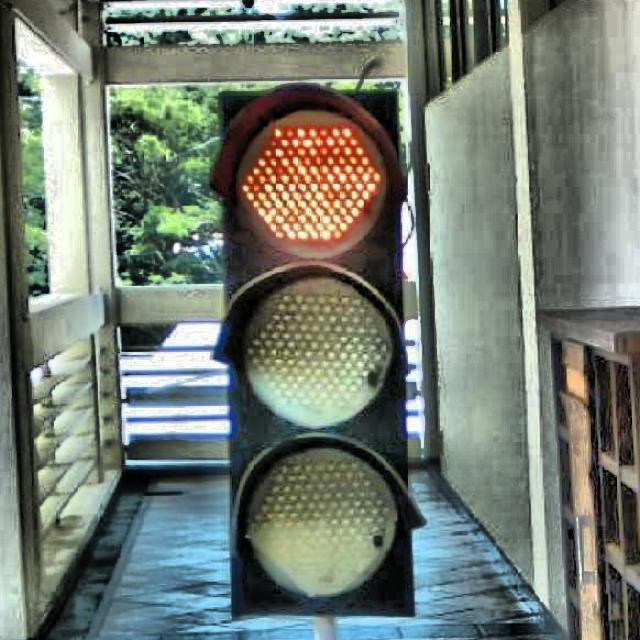red: (220, 85, 398, 625)
